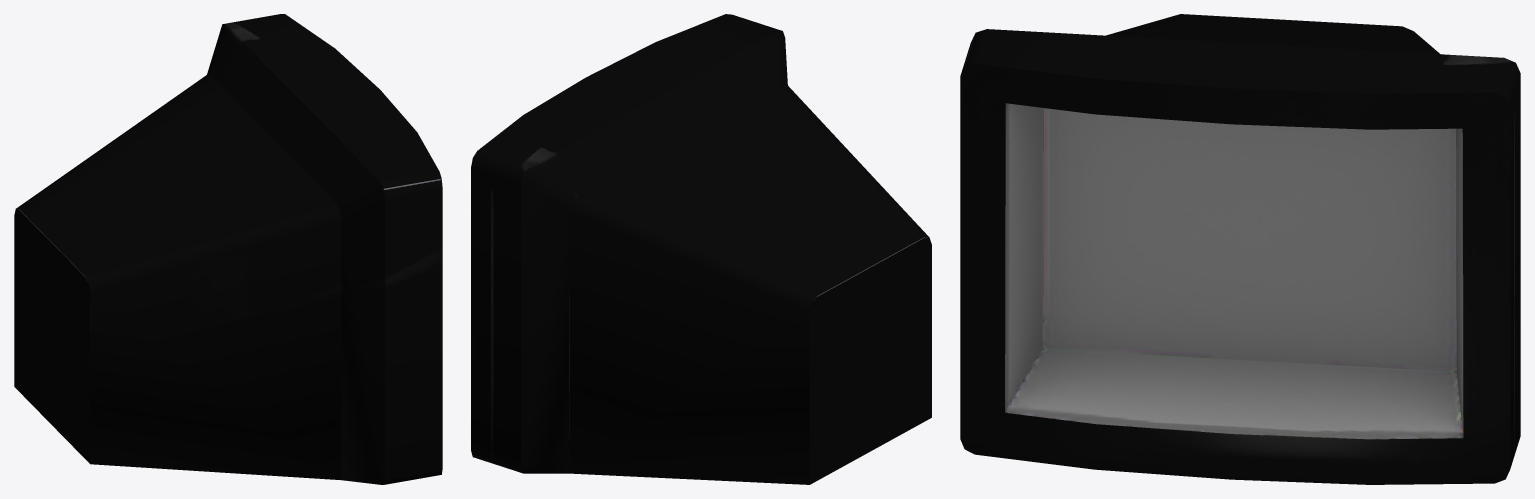
3 views of the same model, side by side, from view 1: azimuth 30°, elevation 25°; view 2: azimuth 150°, elevation 25°; view 3: azimuth 270°, elevation 25° (orthographic). The views are drawn at different scales.
Parts seen in each view (by area): view 1: tv 3; view 2: tv 3; view 3: tv 3.
Boxes of the visible parts, x1=… form: tv 3: x1=14, y1=14, x2=442, y2=484; tv 3: x1=471, y1=14, x2=931, y2=484; tv 3: x1=960, y1=14, x2=1520, y2=484.
Bounding box in the file's own units: 223 × 258 × 199.
Materials: 1 (1 with a texture image).
